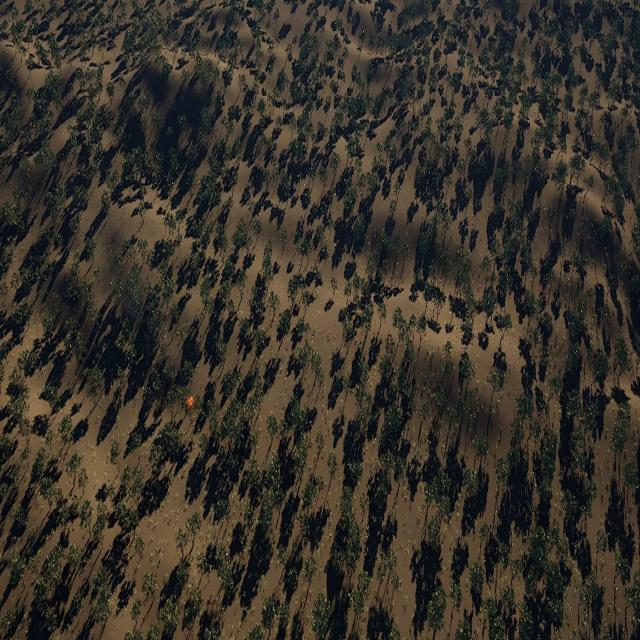fire: (186, 395, 194, 407)
